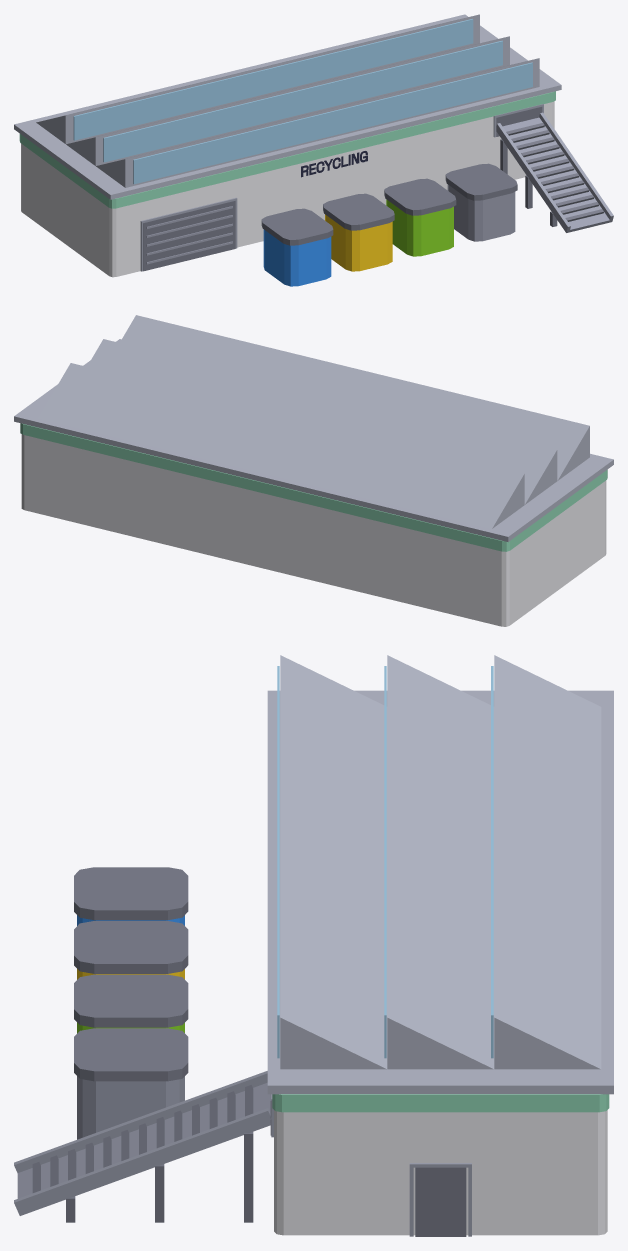
File: recycling-3x2-t4.glb
3 renders of one model, top to bottom at view 1: azimuth 30°, elevation 25°; view 2: azimuth 150°, elevation 25°; view 3: azimuth 270°, elevation 25°, orthographic. The views are drawn at different scales.
Parts seen in each view (by area): view 1: recycling-3x2-t4; view 2: recycling-3x2-t4; view 3: recycling-3x2-t4.
Part boxes in pixels (<box>): recycling-3x2-t4: <box>14,14,613,286</box>; recycling-3x2-t4: <box>14,315,613,626</box>; recycling-3x2-t4: <box>14,655,613,1236</box>.
Bounding box in the file's own units: 2.94 × 0.71 × 1.89.
1 material, 1 textured.
